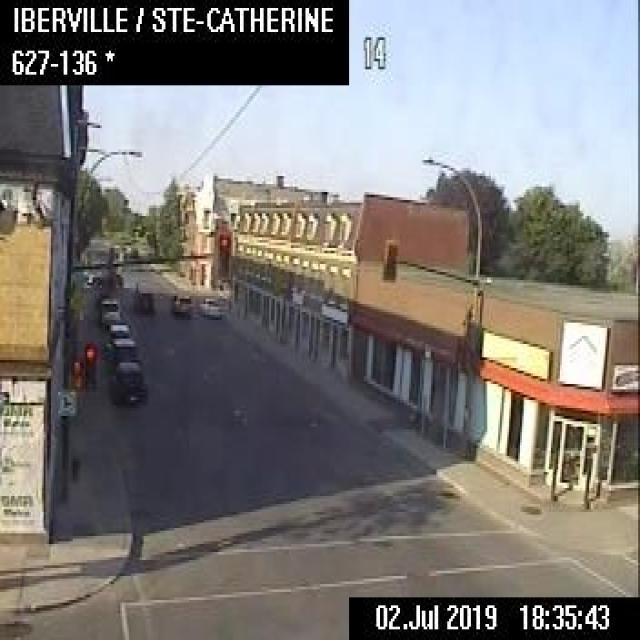vehicle: (112, 358, 147, 405), (104, 333, 135, 364), (131, 277, 155, 312), (198, 293, 221, 320), (169, 293, 193, 318), (104, 317, 130, 338), (100, 298, 119, 325)
